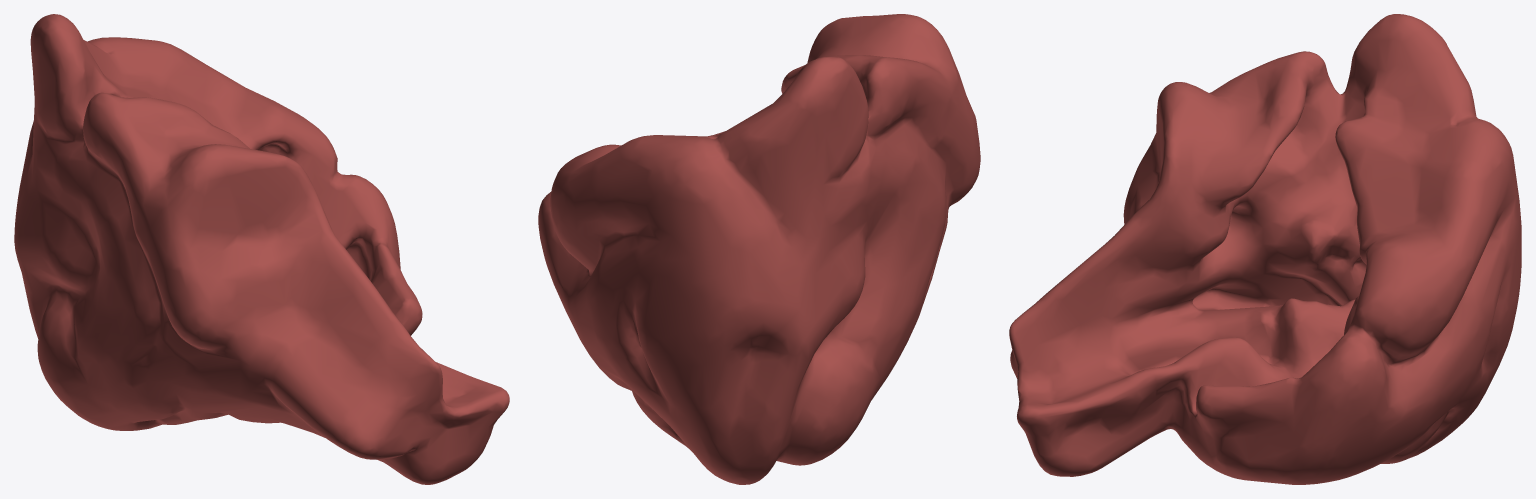
Rendered from FMA72976.glb.
3 renders of one model, left to right at view 1: azimuth 30°, elevation 25°; view 2: azimuth 150°, elevation 25°; view 3: azimuth 270°, elevation 25°, orthographic. The views are drawn at different scales.
Visible parts, largest first — view 1: FMA72976; view 2: FMA72976; view 3: FMA72976.
Boxes of the visible parts, box(x1,y1,x2,y2) form: FMA72976: box(14, 14, 509, 484); FMA72976: box(538, 14, 980, 484); FMA72976: box(1009, 14, 1521, 484).
Bounding box in the file's own units: 0.0413 × 0.0514 × 0.06.
